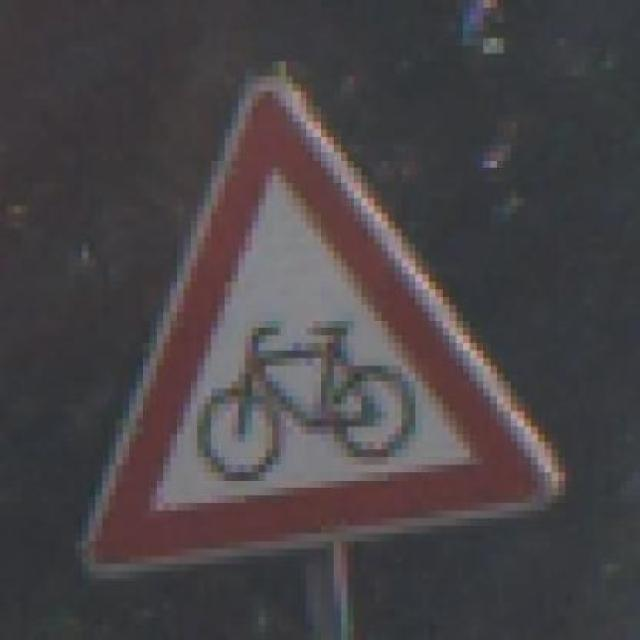CYCLE ROUTE AHEAD WARNING: (55, 61, 579, 594)
